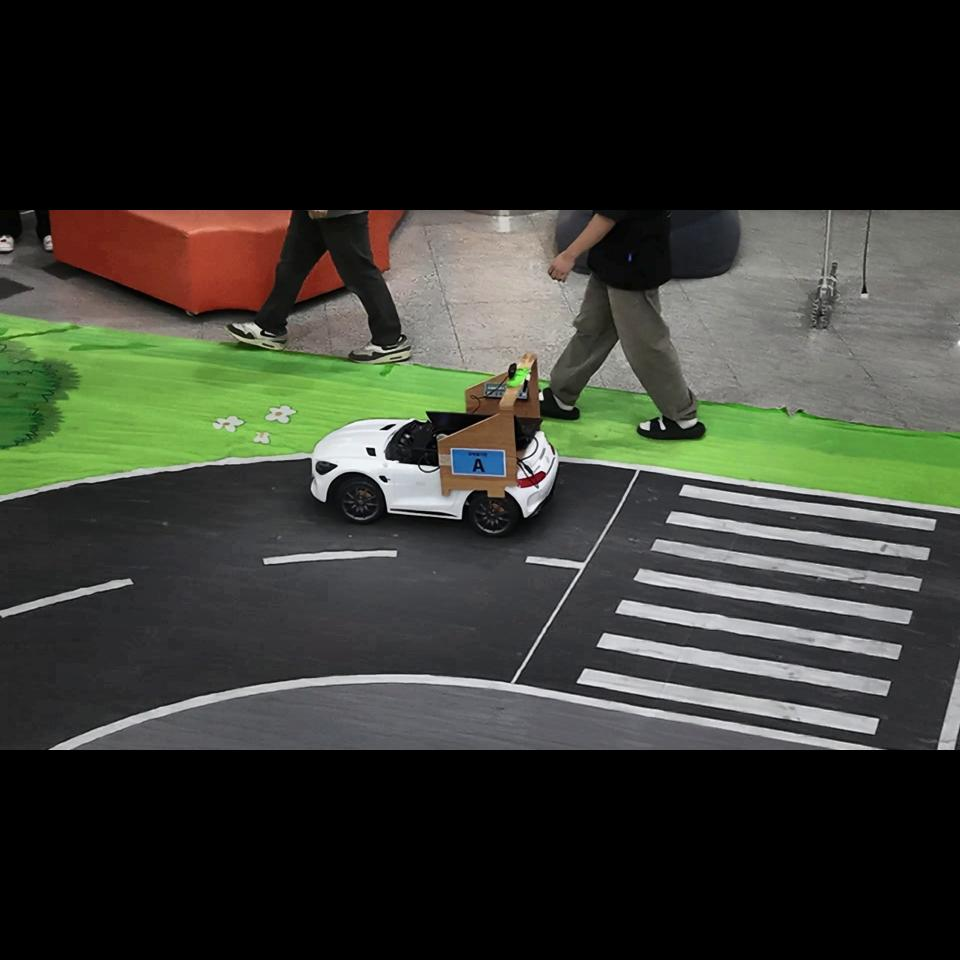broken_line: (0, 578, 134, 618), (262, 550, 398, 565), (525, 556, 583, 569)
crosswalk: (576, 484, 937, 735)
